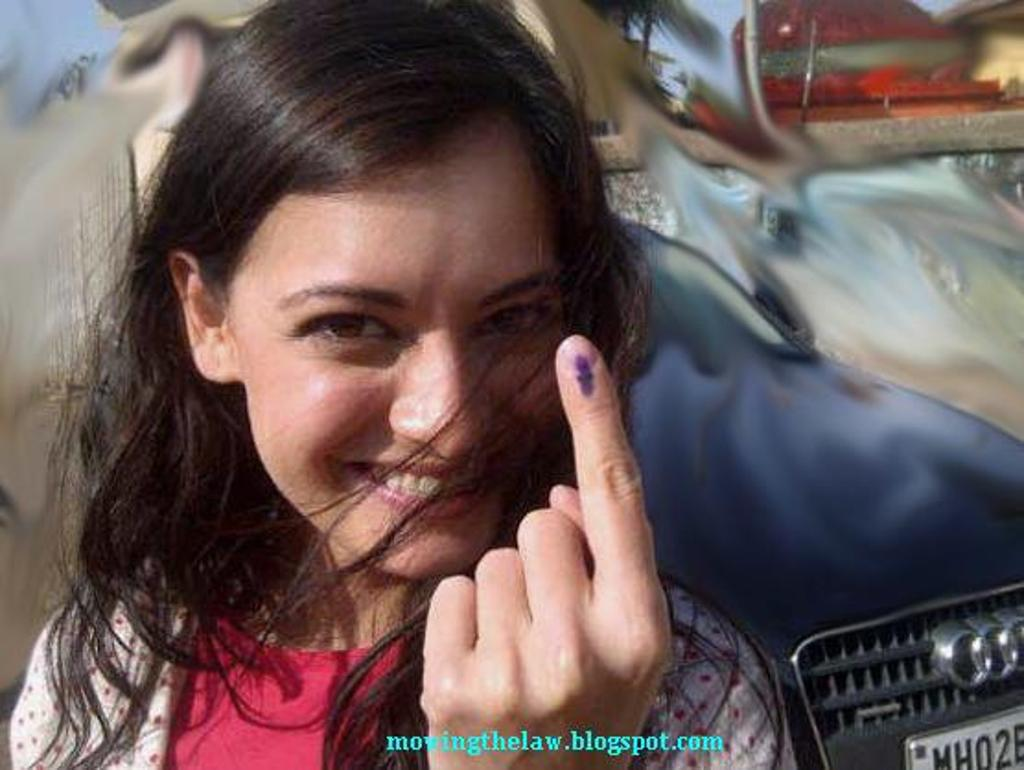face: (233, 125, 567, 577)
